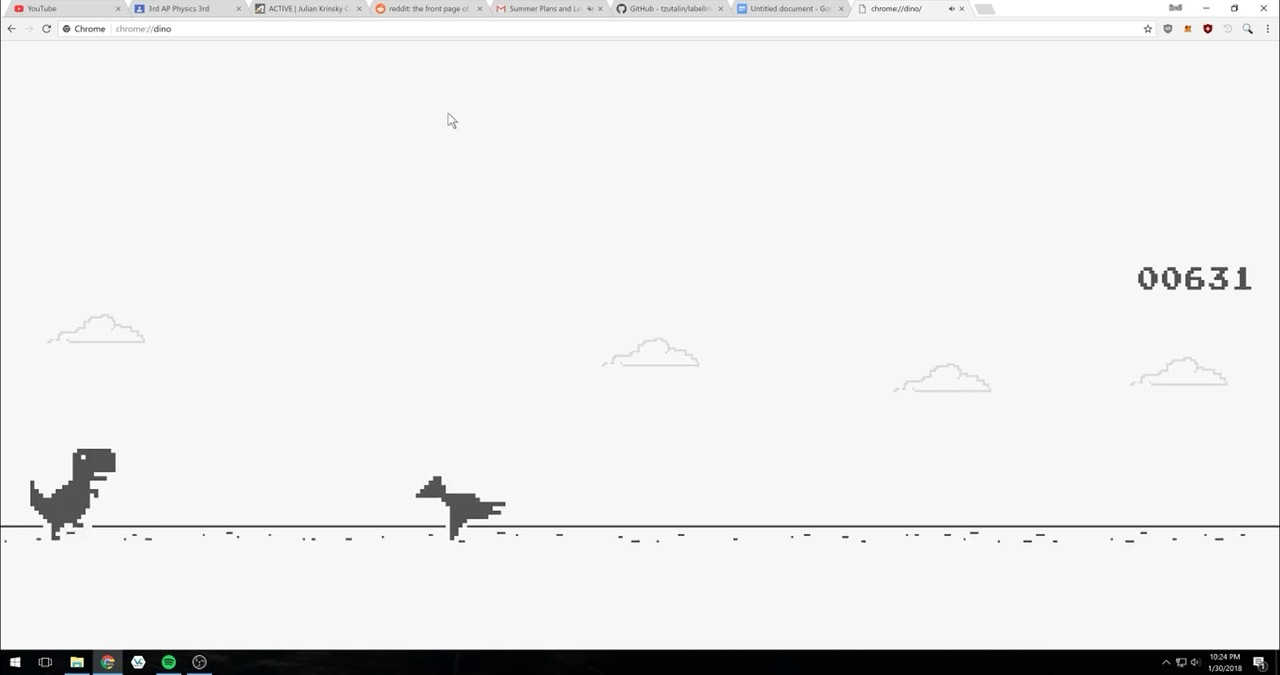bird: (412, 474, 509, 544)
dinosaur: (30, 446, 119, 545)
